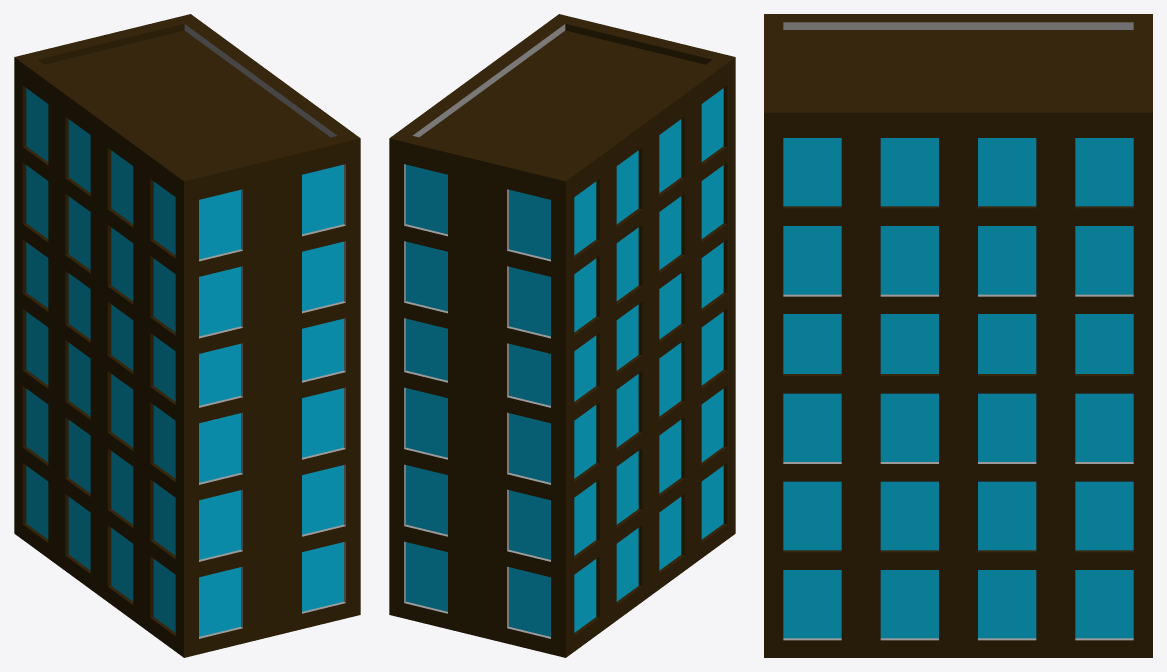
Rendered from building.fbx.
3 renders of one model, left to right at view 1: azimuth 30°, elevation 25°; view 2: azimuth 150°, elevation 25°; view 3: azimuth 270°, elevation 25°, orthographic. The views are drawn at different scales.
Parts seen in each view (by area): view 1: pCube9; view 2: pCube9; view 3: pCube9.
Boxes of the visible parts, x1,y1,x2,y2 form: pCube9: [14, 14, 360, 657]; pCube9: [389, 14, 735, 657]; pCube9: [764, 14, 1152, 657].
Size of the model in its own units: 12 by 30.94 by 20.
